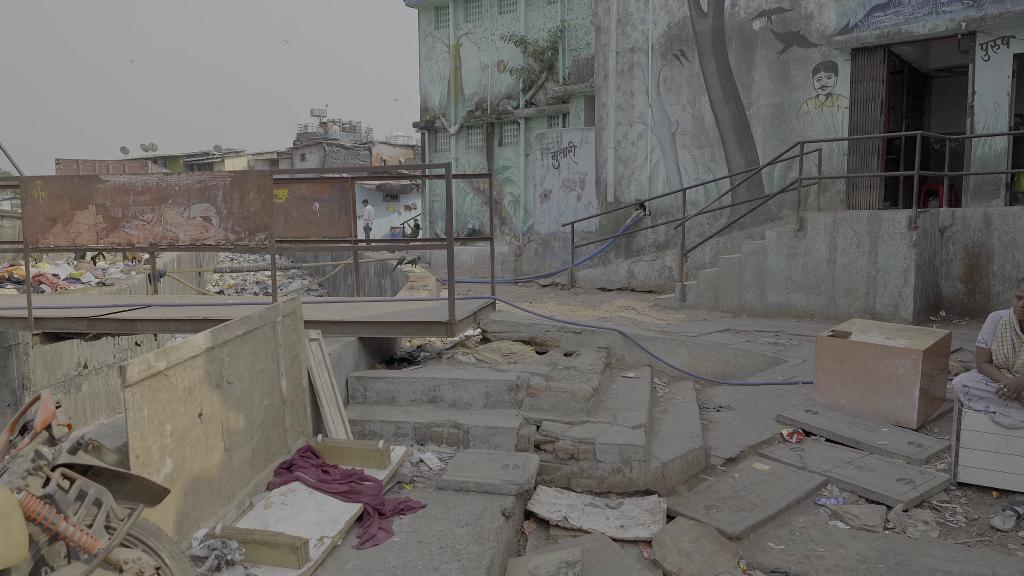garbage: (778, 424, 810, 450), (812, 492, 851, 510), (745, 459, 773, 474), (622, 372, 643, 380), (929, 315, 941, 322)
